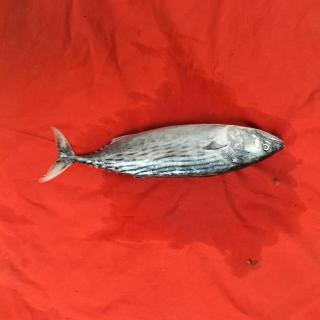Ikan: (42, 116, 295, 194)
